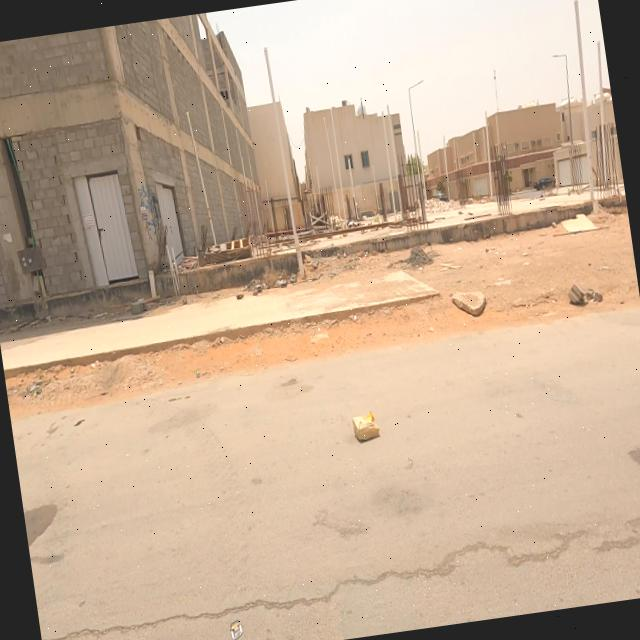Graffiti: (138, 184, 165, 243)
